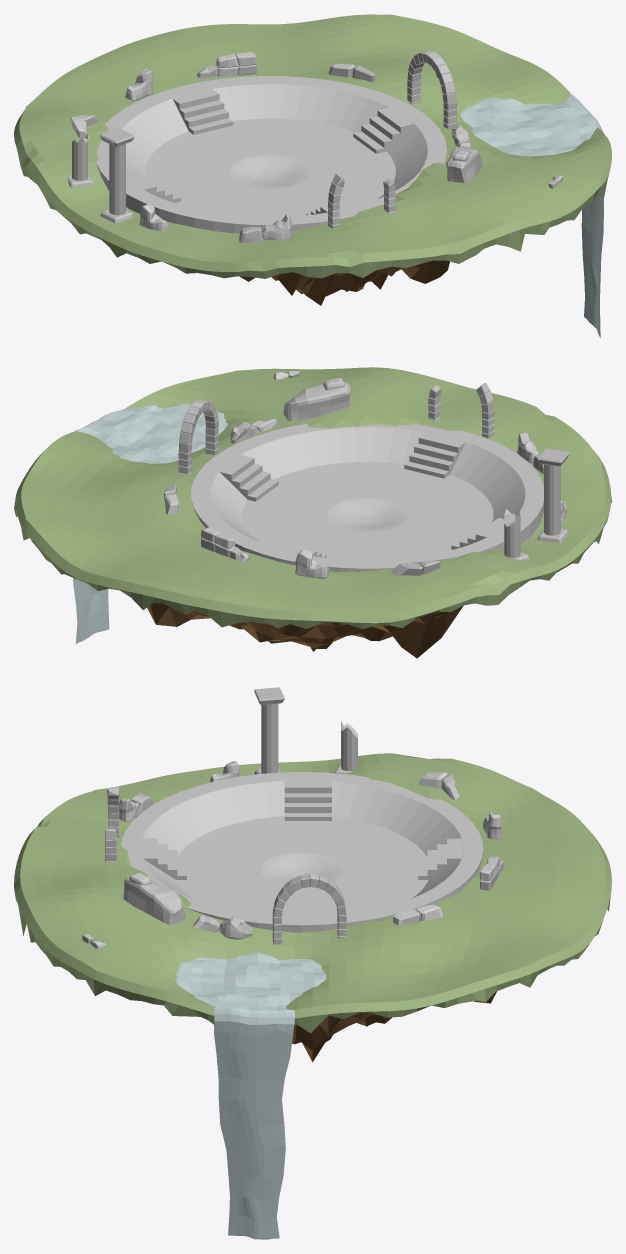
The model's file is hub.fbx.
3 views of the same model, one above another, from view 1: azimuth 30°, elevation 25°; view 2: azimuth 150°, elevation 25°; view 3: azimuth 270°, elevation 25° (orthographic). The views are drawn at different scales.
Parts seen in each view (by area): view 1: Plane.002; view 2: Plane.002; view 3: Plane.002.
Part boxes in pixels (x1,y1,x2,y2): Plane.002: (14, 14, 611, 337); Plane.002: (14, 367, 611, 658); Plane.002: (14, 687, 611, 1239).
Size of the model in its own units: 2550 by 1452 by 2536.
